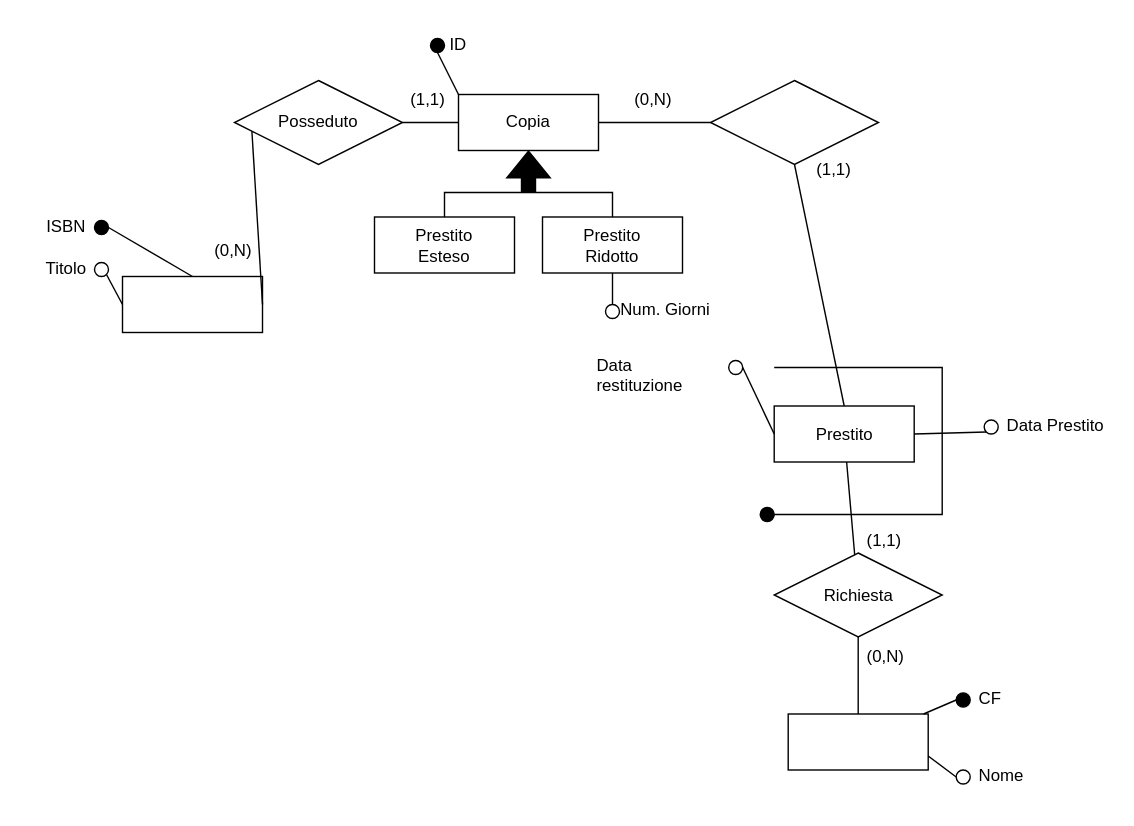
Some shapes in this 1134 by 826 pixel diagram are drawn without their labels. Here are the shapes that lost their labels. From the top down, the centre of each, then its label:
point 793,121: Prestata
point 191,303: Libro
point 857,741: Utente
